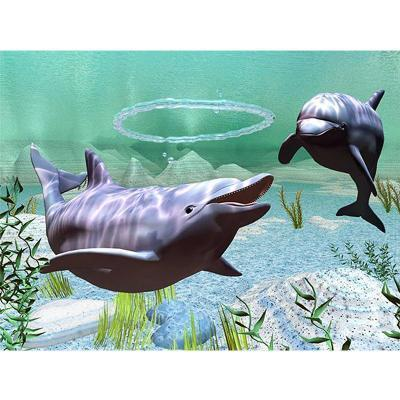fish: (23, 142, 276, 296), (276, 86, 395, 231)
